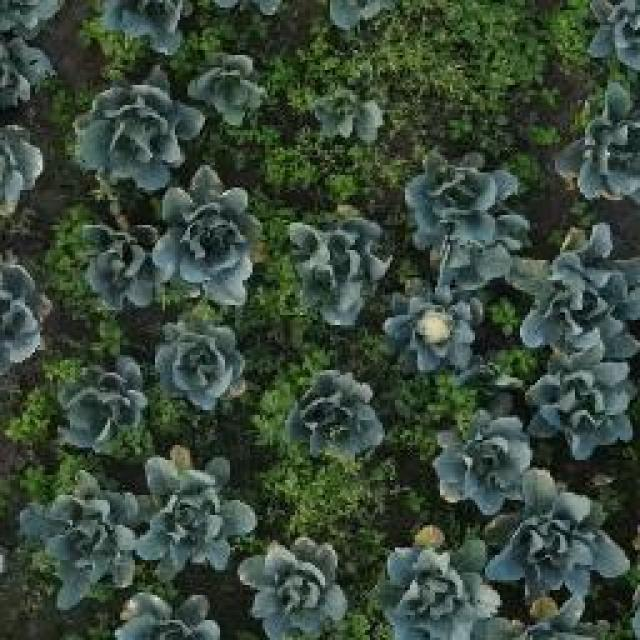cabbage: (164, 165, 274, 309), (22, 471, 133, 604), (524, 229, 640, 356), (71, 76, 202, 187), (409, 156, 522, 279), (134, 452, 255, 566), (495, 492, 624, 596), (235, 530, 353, 640), (287, 208, 394, 327), (428, 406, 540, 512), (379, 541, 497, 640), (532, 353, 640, 461), (555, 93, 640, 205), (156, 318, 249, 416), (284, 375, 386, 463), (380, 291, 482, 374), (55, 358, 149, 448), (78, 220, 160, 313), (182, 56, 275, 130), (97, 0, 194, 58), (312, 79, 388, 147), (115, 590, 217, 640)
